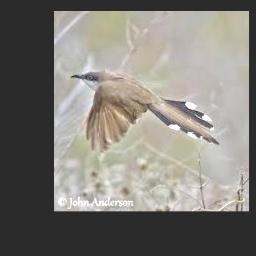Cuckoo: (70, 69, 219, 151)
